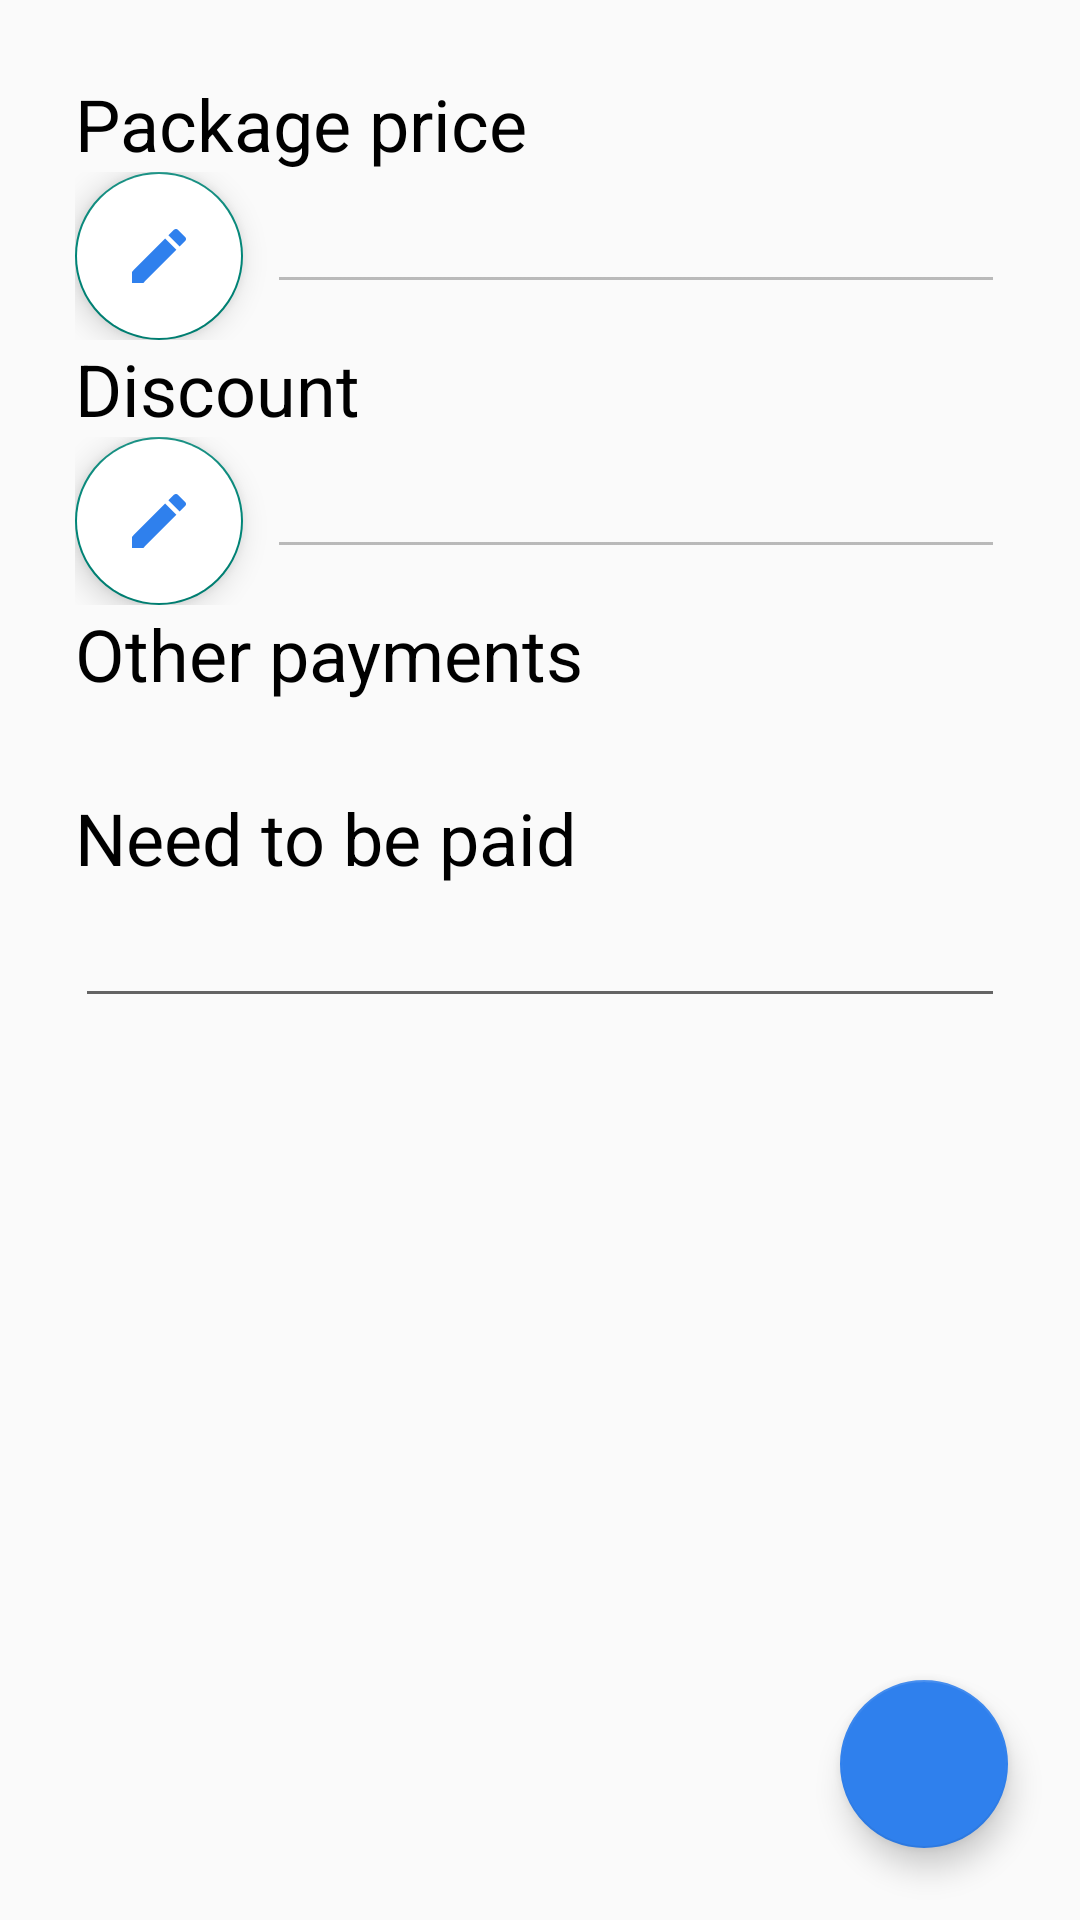

Locate icon controls on the screen. Image size 1080px x 1920px, boxes as (x1, y1, x2, y2).
edit: (75, 172, 243, 340), (75, 437, 243, 605)
